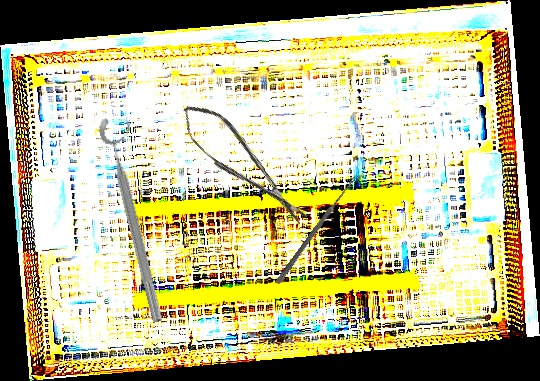Fixation Ring: (96, 112, 180, 325)
Micro Scissor: (172, 92, 315, 238)
Surgical Spoon: (275, 173, 359, 285)
